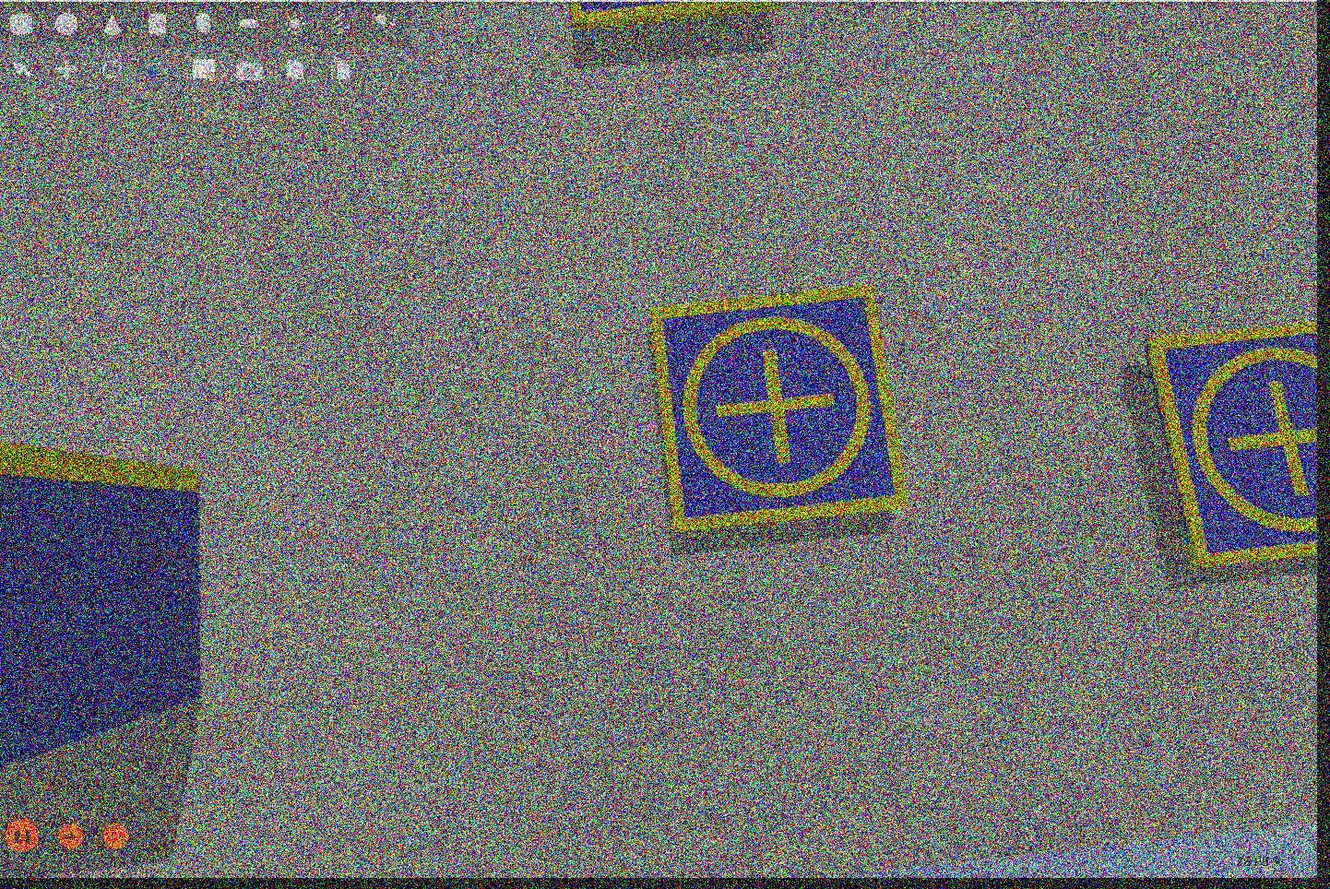small_base: (649, 286, 912, 536), (1144, 323, 1319, 571)
